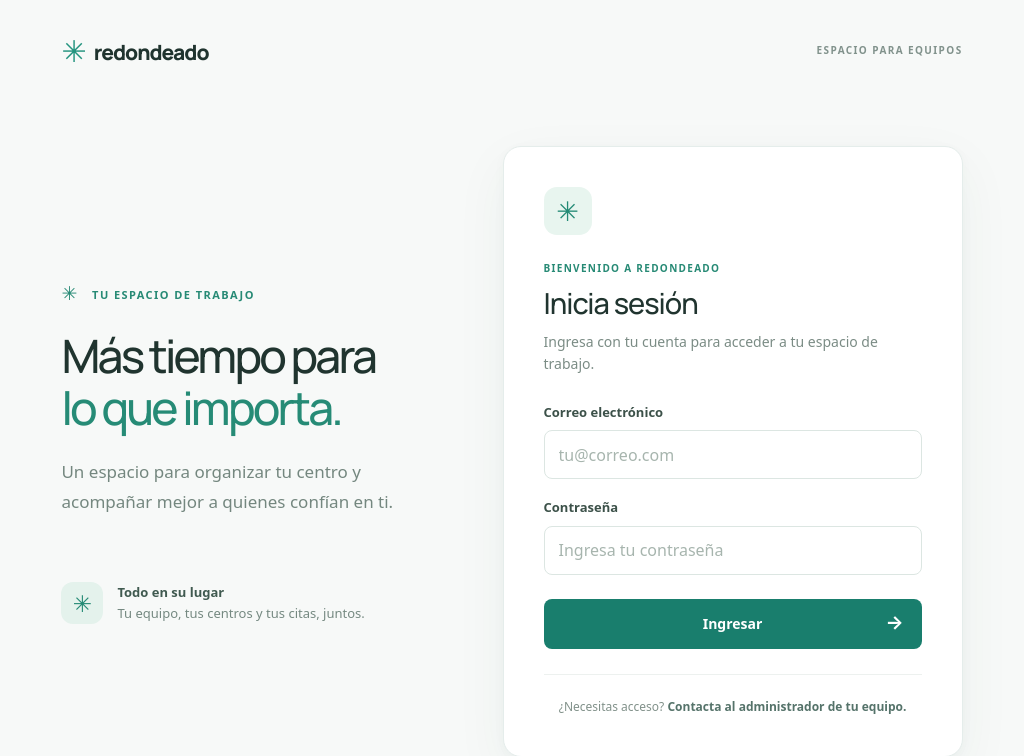
Scenario: staff workspace through the screen › greets the staff member and navigates between distinct pages
In the field labelled "Correo electrónico": (732,455) [544, 430, 922, 479], type "member@example.com"
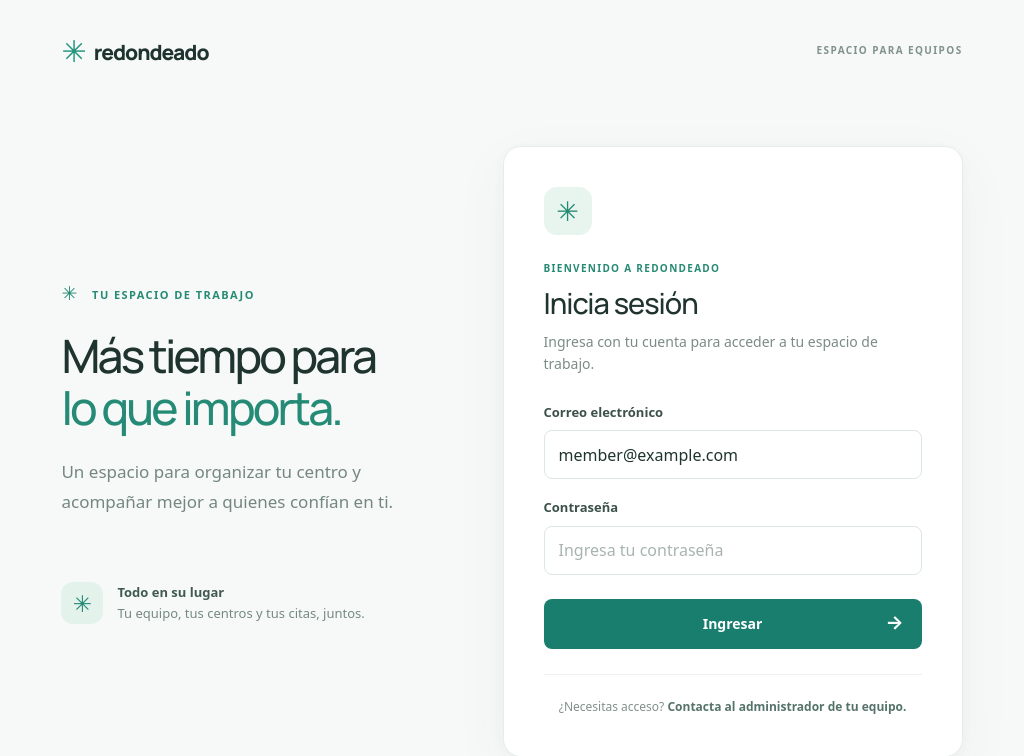
In the password field labelled "Contraseña": (732,550) [544, 526, 922, 575], type "password"
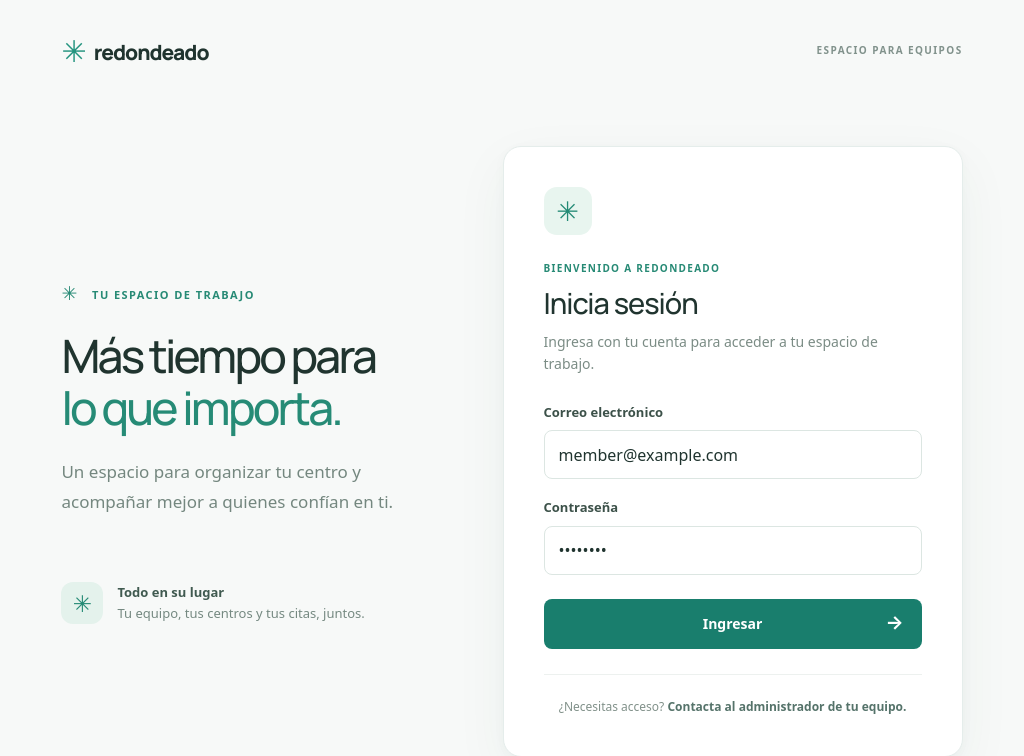
Click the button "Ingresar →": (732,624) [544, 599, 922, 649]
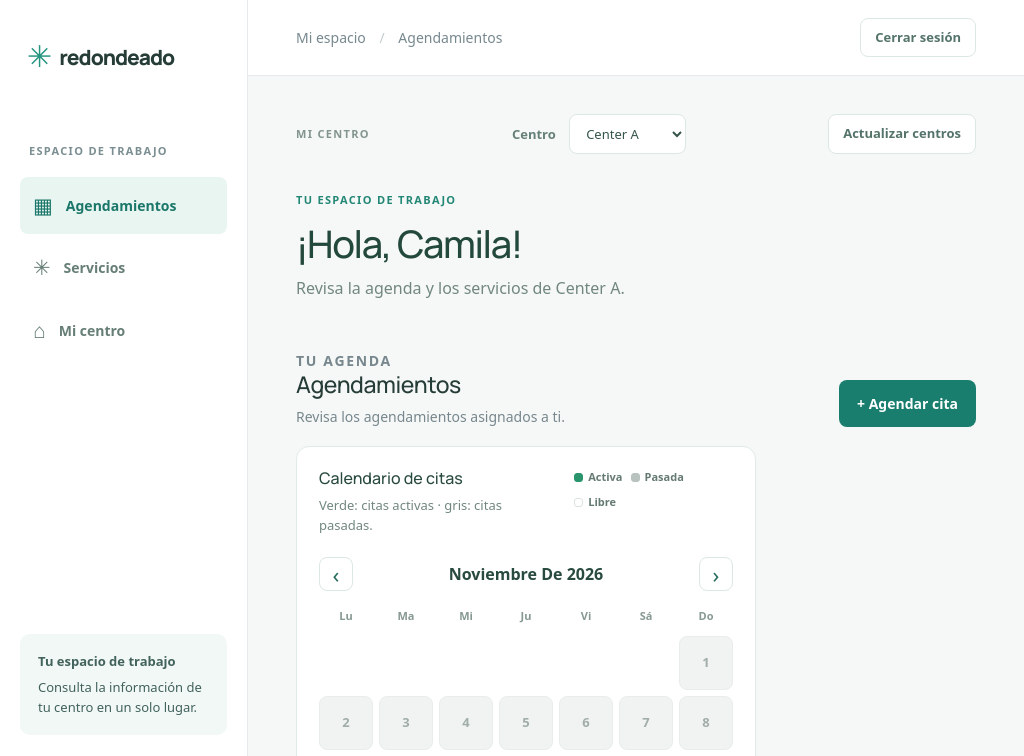
Now the heading "Agendamientos" is shown, box [296, 368, 461, 400]
Now the heading "¡Hola, Camila!" is shown, box [296, 216, 522, 268]
Click the link "✳︎ Servicios": (79,267) [33, 253, 125, 281]
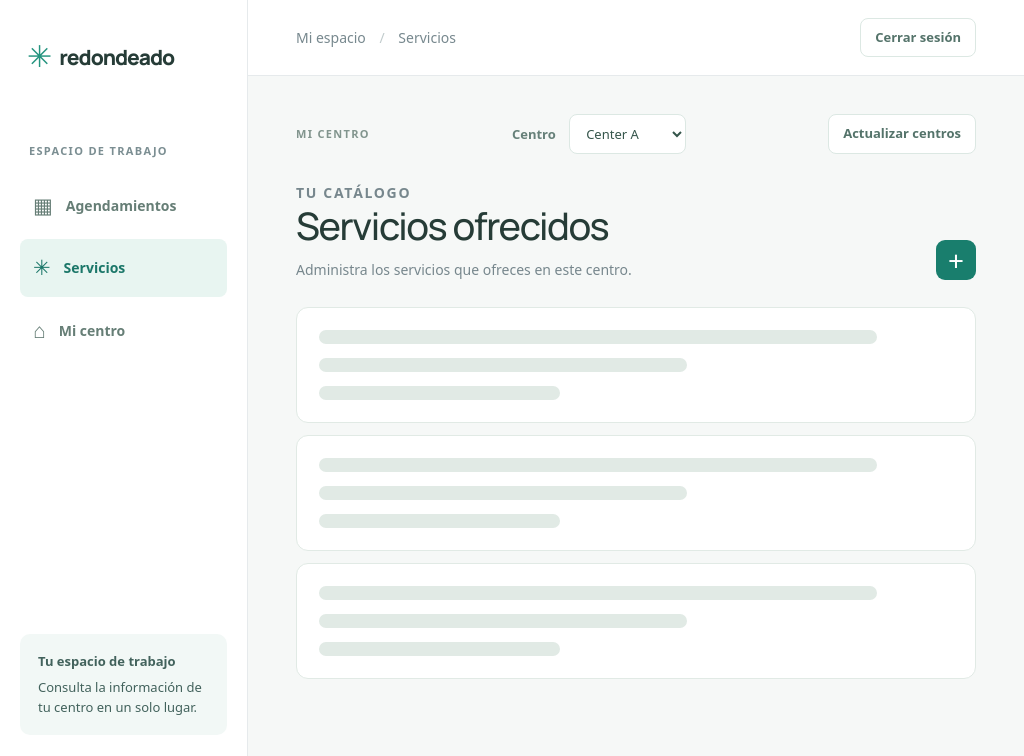
Now the heading "Servicios ofrecidos" is shown, box [296, 203, 632, 249]
Click the link "⌂ Mi centro": (79,330) [33, 316, 125, 344]
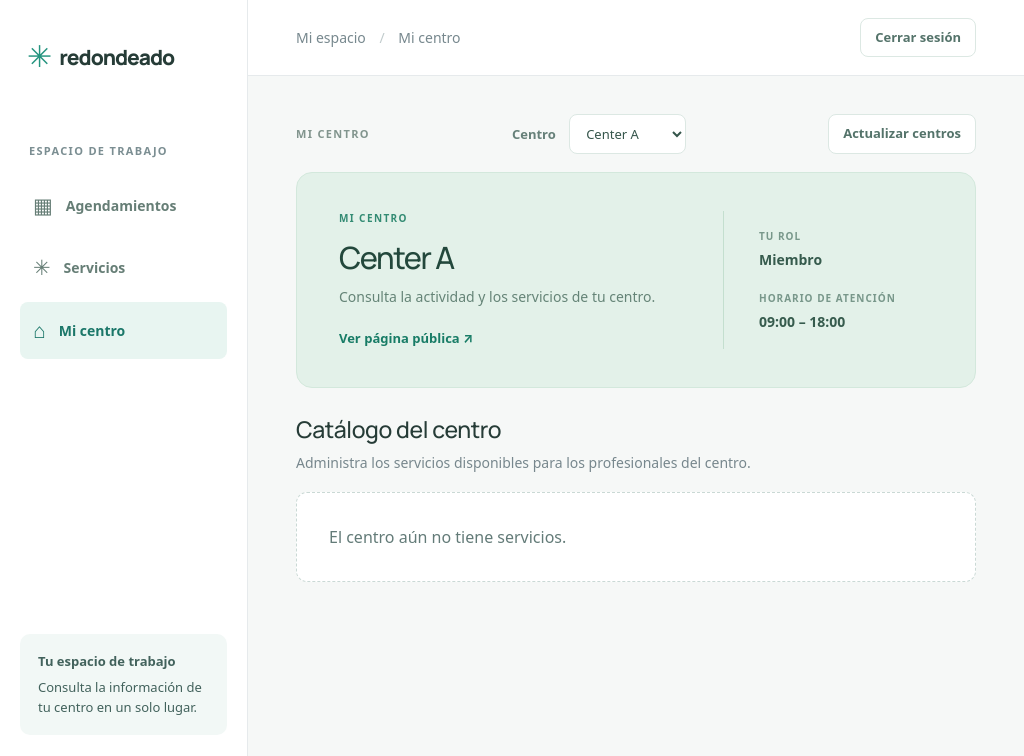
Now the heading "Center A" is shown, box [339, 236, 454, 278]
Now the heading "Servicios ofrecidos" is gone
Now the heading "Catálogo del centro" is shown, box [296, 413, 501, 445]
